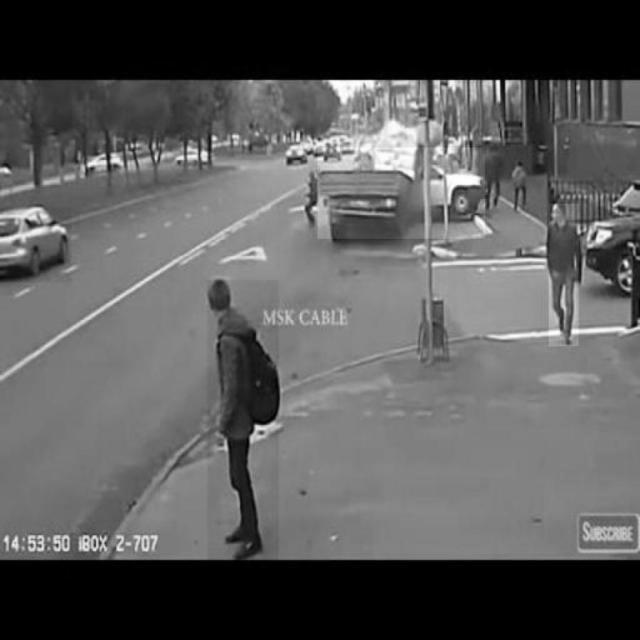accident: (318, 148, 485, 239)
person: (208, 281, 279, 561), (549, 204, 579, 346)
vehicle: (0, 208, 71, 282)
